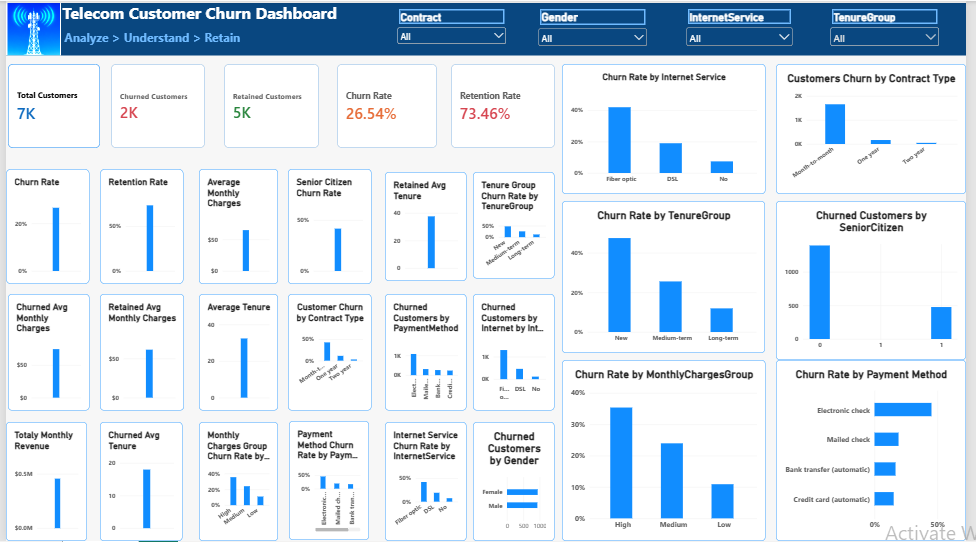

Layout of this report page (visuals, bound fields, positions):
{"tool":"powerbi","page":{"name":"Page 1","canvas":[1920,1080],"ordinal":0},"visuals":[{"type":"cardVisual","fields":{"Data":["customer_churn_cleaned.Churned Customers"]},"box":[210,126,188,168],"z":0},{"type":"cardVisual","fields":{"Data":["customer_churn_cleaned.Retained Customers"]},"box":[436,126,190,168],"z":1000},{"type":"clusteredColumnChart","fields":{"Y":["customer_churn_cleaned.Churn Rate"]},"box":[0,336.7,166.7,230],"z":2000},{"type":"clusteredColumnChart","fields":{"Y":["customer_churn_cleaned.Retention Rate"]},"box":[188.3,336.7,166.7,230],"z":3000},{"type":"clusteredColumnChart","fields":{"Y":["customer_churn_cleaned.Average Monthly Charges"]},"box":[385,336.7,158.3,230],"z":4000},{"type":"clusteredColumnChart","fields":{"Y":["customer_churn_cleaned.Average Tenure"]},"box":[385,585,158.3,233.3],"z":5000},{"type":"clusteredColumnChart","fields":{"Y":["customer_churn_cleaned.Churned Avg Monthly Charges"]},"box":[3.3,585,163.3,233.3],"z":6000},{"type":"clusteredColumnChart","fields":{"Y":["customer_churn_cleaned.Retained Avg Monthly Charges"]},"box":[188.3,585,168.3,233.3],"z":7000},{"type":"clusteredColumnChart","fields":{"Y":["customer_churn_cleaned.Totaly Monthly Revenue"]},"box":[0,841.7,161.7,238.3],"z":8000},{"type":"clusteredColumnChart","fields":{"Y":["customer_churn_cleaned.Senior Citizen Churn Rate"]},"box":[563.3,336.7,166.7,230],"z":9000},{"type":"clusteredColumnChart","title":"Customer Churn by Contract Type","fields":{"Category":["customer_churn_cleaned.Contract"],"Y":["customer_churn_cleaned.Contract Churn Rate"]},"box":[563.3,585,166.7,233.3],"z":10000},{"type":"clusteredColumnChart","fields":{"Y":["customer_churn_cleaned.Churned Avg Tenure"]},"box":[188.3,841.7,165,238.3],"z":11000},{"type":"clusteredColumnChart","fields":{"Y":["customer_churn_cleaned.Retained Avg Tenure"]},"box":[758.3,341.7,163.3,218.3],"z":12000},{"type":"clusteredColumnChart","title":"Churned Customers by PaymentMethod","fields":{"Category":["customer_churn_cleaned.PaymentMethod"],"Y":["customer_churn_cleaned.Churned Customers by Payment"]},"box":[758.3,585,163.3,233.3],"z":13000},{"type":"clusteredColumnChart","fields":{"Category":["customer_churn_cleaned.PaymentMethod"],"Y":["customer_churn_cleaned.Payment Method Churn Rate"]},"box":[566,840,160,238.3],"z":14000},{"type":"clusteredColumnChart","fields":{"Category":["customer_churn_cleaned.InternetService"],"Y":["customer_churn_cleaned.Churned Customers by Internet"]},"box":[933.3,585,163.3,233.3],"z":15000},{"type":"clusteredColumnChart","fields":{"Category":["customer_churn_cleaned.InternetService"],"Y":["customer_churn_cleaned.Internet Service Churn Rate"]},"box":[758.3,841.7,163.3,238.3],"z":16000},{"type":"clusteredColumnChart","fields":{"Category":["customer_churn_cleaned.TenureGroup"],"Y":["customer_churn_cleaned.Tenure Group Churn Rate"]},"box":[933.3,341.7,163.3,213.3],"z":17000},{"type":"clusteredColumnChart","fields":{"Category":["customer_churn_cleaned.MonthlyChargesGroup"],"Y":["customer_churn_cleaned.Monthly Charges Group Churn Rate"]},"box":[385,841.7,158.3,238.3],"z":18000},{"type":"cardVisual","fields":{"Data":["customer_churn_cleaned.Total Customers"]},"box":[4,126,184,168],"z":19000},{"type":"cardVisual","fields":{"Data":["customer_churn_cleaned.Churn Rate"]},"box":[662,126,200,168],"z":20000},{"type":"cardVisual","fields":{"Data":["customer_churn_cleaned.Retention Rate"]},"box":[890,126,208,168],"z":21000},{"type":"clusteredColumnChart","title":" Customers Churn by Contract Type","fields":{"Category":["customer_churn_cleaned.Contract"],"Y":["customer_churn_cleaned.Churned Customers"]},"box":[1540,125,380,260],"z":22000},{"type":"clusteredBarChart","title":"Churn Rate by Payment Method ","fields":{"Category":["customer_churn_cleaned.PaymentMethod"],"Y":["customer_churn_cleaned.Payment Method Churn Rate"]},"box":[1540,718.3,380,361.7],"z":23000},{"type":"clusteredColumnChart","title":" Churn Rate by Internet Service","fields":{"Category":["customer_churn_cleaned.InternetService"],"Y":["customer_churn_cleaned.Internet Service Churn Rate"]},"box":[1111.7,125,406.7,260],"z":24000},{"type":"clusteredColumnChart","title":" Churn Rate by TenureGroup","fields":{"Category":["customer_churn_cleaned.TenureGroup"],"Y":["customer_churn_cleaned.Tenure Group Churn Rate"]},"box":[1112,400,406,304],"z":25000},{"type":"clusteredColumnChart","title":"Churn Rate by MonthlyChargesGroup","fields":{"Category":["customer_churn_cleaned.MonthlyChargesGroup"],"Y":["customer_churn_cleaned.Monthly Charges Group Churn Rate"]},"box":[1111.7,718.3,407.2,361.7],"z":26000},{"type":"clusteredColumnChart","fields":{"Category":["customer_churn_cleaned.SeniorCitizen"],"Y":["customer_churn_cleaned.Churned Customers"]},"box":[1540,400,380,318],"z":27000},{"type":"clusteredBarChart","fields":{"Category":["customer_churn_cleaned.gender"],"Y":["customer_churn_cleaned.Churned Customers"]},"box":[933.3,841.7,163.3,238.3],"z":28000},{"type":"shape","box":[0,3.3,1920,105],"z":29000},{"type":"textbox","box":[0,0,661.7,275],"z":30000},{"type":"textbox","box":[0,56.7,543.3,48.3],"z":31000},{"type":"image","box":[0,3.3,110,105],"z":32000},{"type":"slicer","fields":{"Values":["customer_churn_cleaned.Contract"]},"box":[778.3,16.7,226.7,78.3],"z":33000},{"type":"slicer","fields":{"Values":["customer_churn_cleaned.gender"]},"box":[1060,16.7,226.7,86.7],"z":34000},{"type":"slicer","fields":{"Values":["customer_churn_cleaned.InternetService"]},"box":[1355,16.7,221.7,91.7],"z":35000},{"type":"slicer","fields":{"Values":["customer_churn_cleaned.TenureGroup"]},"box":[1643.3,16.7,226.7,91.7],"z":36000}]}

Visuals, with their boxes in screenshot pixels (x1, y1, x2, y2), scaled from the page's 1920x1080 canvas onto the 976x542 screenshot:
cardVisual - customer_churn_cleaned.Churned Customers: left=107, top=63, right=202, bottom=148
cardVisual - customer_churn_cleaned.Retained Customers: left=222, top=63, right=318, bottom=148
clusteredColumnChart - customer_churn_cleaned.Churn Rate: left=0, top=169, right=85, bottom=284
clusteredColumnChart - customer_churn_cleaned.Retention Rate: left=96, top=169, right=180, bottom=284
clusteredColumnChart - customer_churn_cleaned.Average Monthly Charges: left=196, top=169, right=276, bottom=284
clusteredColumnChart - customer_churn_cleaned.Average Tenure: left=196, top=294, right=276, bottom=411
clusteredColumnChart - customer_churn_cleaned.Churned Avg Monthly Charges: left=2, top=294, right=85, bottom=411
clusteredColumnChart - customer_churn_cleaned.Retained Avg Monthly Charges: left=96, top=294, right=181, bottom=411
clusteredColumnChart - customer_churn_cleaned.Totaly Monthly Revenue: left=0, top=422, right=82, bottom=541
clusteredColumnChart - customer_churn_cleaned.Senior Citizen Churn Rate: left=286, top=169, right=371, bottom=284
"Customer Churn by Contract Type" clusteredColumnChart: left=286, top=294, right=371, bottom=411
clusteredColumnChart - customer_churn_cleaned.Churned Avg Tenure: left=96, top=422, right=180, bottom=541
clusteredColumnChart - customer_churn_cleaned.Retained Avg Tenure: left=385, top=171, right=468, bottom=281
"Churned Customers by PaymentMethod" clusteredColumnChart: left=385, top=294, right=468, bottom=411
clusteredColumnChart - customer_churn_cleaned.PaymentMethod x customer_churn_cleaned.Payment Method Churn Rate: left=288, top=422, right=369, bottom=541
clusteredColumnChart - customer_churn_cleaned.InternetService x customer_churn_cleaned.Churned Customers by Internet: left=474, top=294, right=557, bottom=411
clusteredColumnChart - customer_churn_cleaned.InternetService x customer_churn_cleaned.Internet Service Churn Rate: left=385, top=422, right=468, bottom=541
clusteredColumnChart - customer_churn_cleaned.TenureGroup x customer_churn_cleaned.Tenure Group Churn Rate: left=474, top=171, right=557, bottom=279
clusteredColumnChart - customer_churn_cleaned.MonthlyChargesGroup x customer_churn_cleaned.Monthly Charges Group Churn Rate: left=196, top=422, right=276, bottom=541
cardVisual - customer_churn_cleaned.Total Customers: left=2, top=63, right=96, bottom=148
cardVisual - customer_churn_cleaned.Churn Rate: left=337, top=63, right=438, bottom=148
cardVisual - customer_churn_cleaned.Retention Rate: left=452, top=63, right=558, bottom=148
" Customers Churn by Contract Type" clusteredColumnChart: left=783, top=63, right=975, bottom=193
"Churn Rate by Payment Method " clusteredBarChart: left=783, top=360, right=975, bottom=541
" Churn Rate by Internet Service" clusteredColumnChart: left=565, top=63, right=772, bottom=193
" Churn Rate by TenureGroup" clusteredColumnChart: left=565, top=201, right=772, bottom=353
"Churn Rate by MonthlyChargesGroup" clusteredColumnChart: left=565, top=360, right=772, bottom=541
clusteredColumnChart - customer_churn_cleaned.SeniorCitizen x customer_churn_cleaned.Churned Customers: left=783, top=201, right=975, bottom=360
clusteredBarChart - customer_churn_cleaned.gender x customer_churn_cleaned.Churned Customers: left=474, top=422, right=557, bottom=541
shape: left=0, top=2, right=975, bottom=54
textbox: left=0, top=0, right=336, bottom=138
textbox: left=0, top=28, right=276, bottom=53
image: left=0, top=2, right=56, bottom=54
slicer - customer_churn_cleaned.Contract: left=396, top=8, right=511, bottom=48
slicer - customer_churn_cleaned.gender: left=539, top=8, right=654, bottom=52
slicer - customer_churn_cleaned.InternetService: left=689, top=8, right=801, bottom=54
slicer - customer_churn_cleaned.TenureGroup: left=835, top=8, right=951, bottom=54
